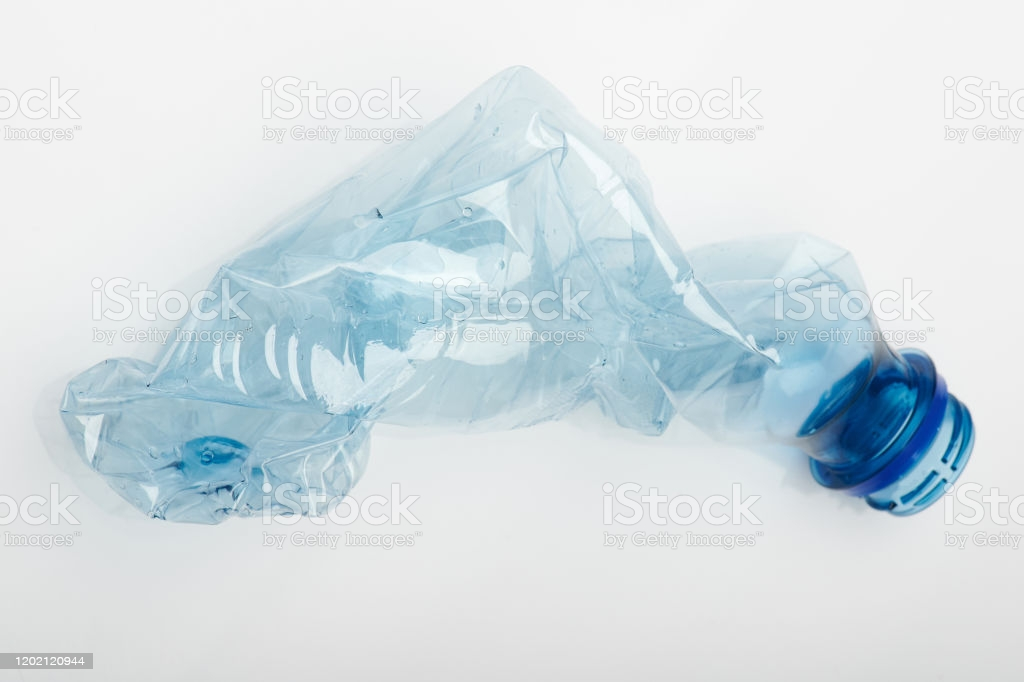plastic_bottle: (25, 93, 992, 625)
